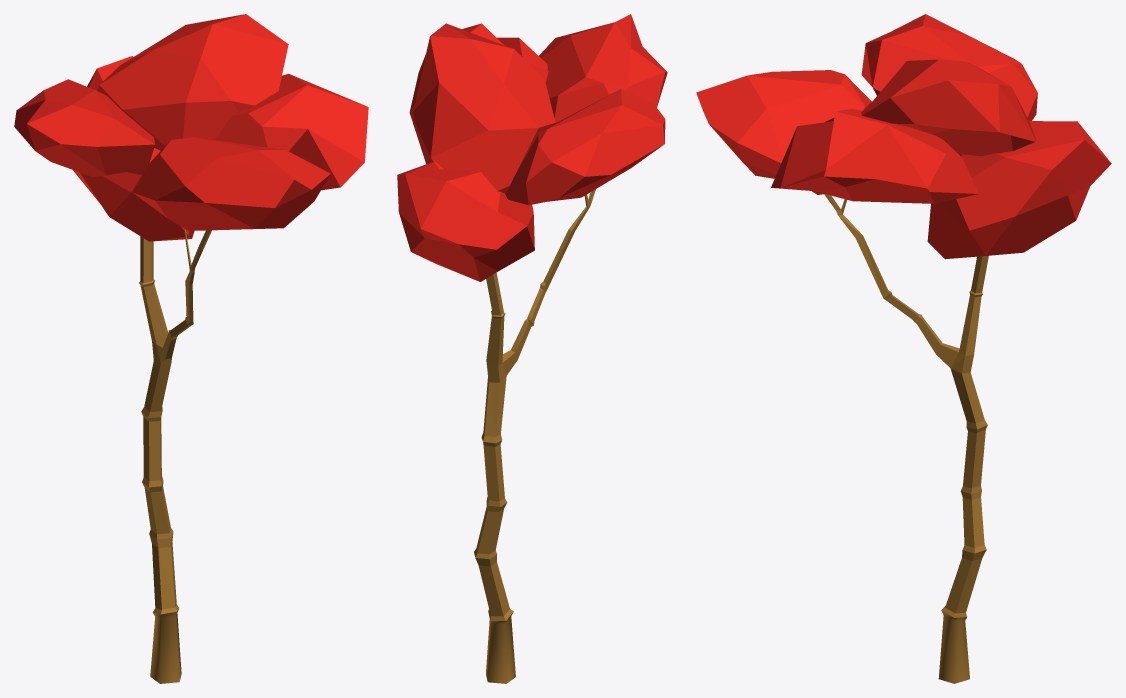
The model's file is Tree_01.FBX.
3 views of the same model, side by side, from view 1: azimuth 30°, elevation 25°; view 2: azimuth 150°, elevation 25°; view 3: azimuth 270°, elevation 25° (orthographic). The views are drawn at different scales.
Parts seen in each view (by area): view 1: Hedra004, Cylinder001; view 2: Hedra004, Cylinder001; view 3: Hedra004, Cylinder001.
Boxes of the visible parts, left/top/right/bottom form: Hedra004: left=14, top=14, right=368, bottom=241; Cylinder001: left=139, top=228, right=211, bottom=683; Hedra004: left=397, top=14, right=667, bottom=281; Cylinder001: left=474, top=189, right=595, bottom=683; Hedra004: left=696, top=14, right=1111, bottom=259; Cylinder001: left=824, top=194, right=988, bottom=683.
Size of the model in its own units: 18.04 by 38.48 by 22.81.
